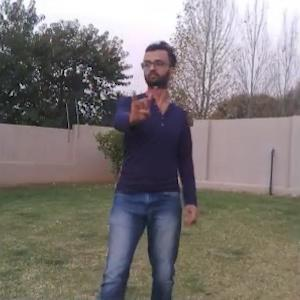takeoff-hand: (125, 79, 164, 125)
